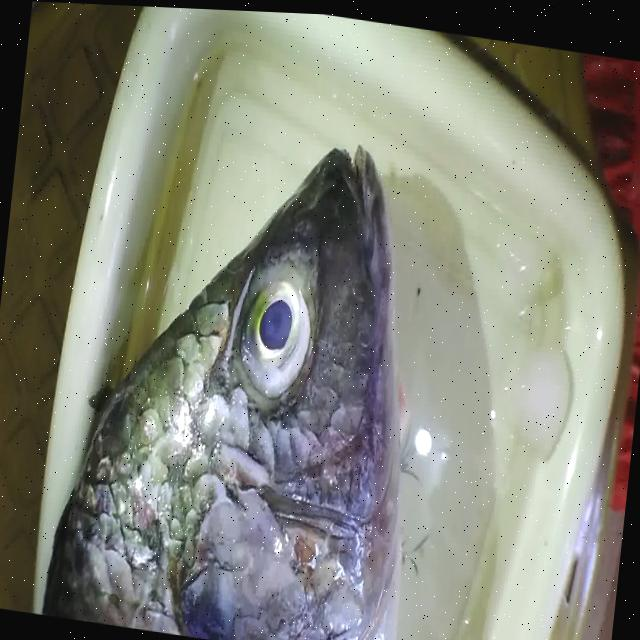Fresh: (207, 223, 341, 454)
